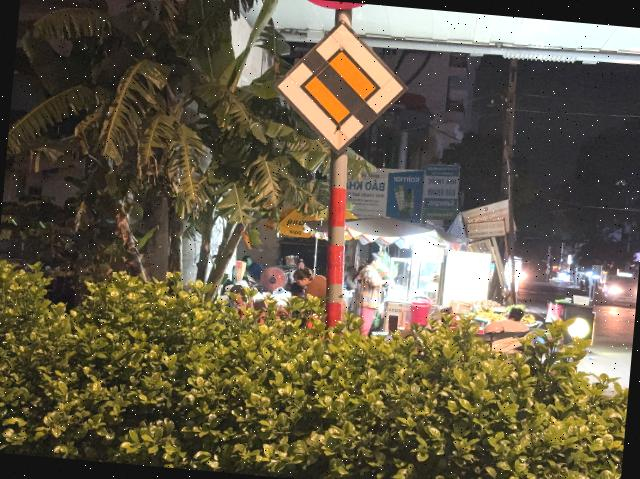het-duong-uu-tien: (267, 13, 413, 160)
